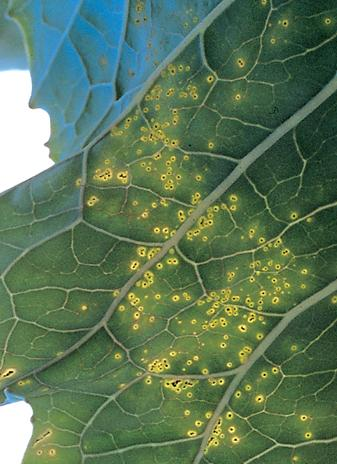Tomato leaf bacterial spot: (1, 20, 337, 464)
